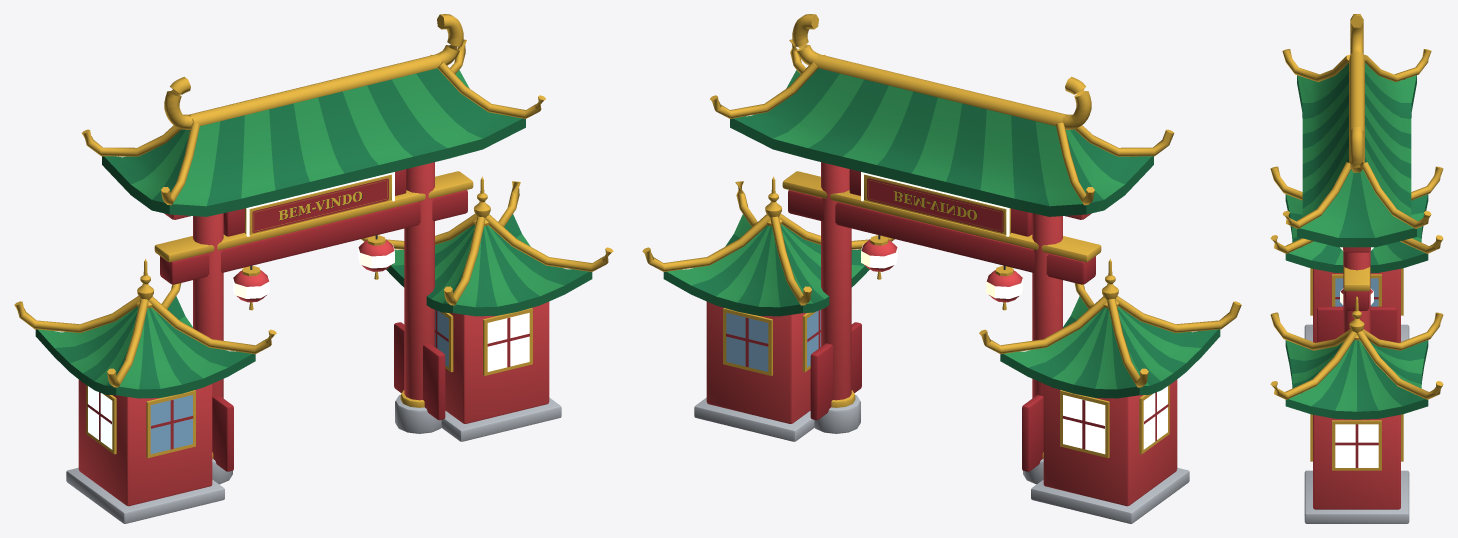
Rendered from portal_decorado.glb.
The picture shows the model from 3 angles, left to right: view 1: azimuth 30°, elevation 25°; view 2: azimuth 150°, elevation 25°; view 3: azimuth 270°, elevation 25°; orthographic projection. The views are drawn at different scales.
Parts seen in each view (by area): view 1: portal_decorado; view 2: portal_decorado; view 3: portal_decorado.
Part boxes in pixels (box(x1,y1,x2,y2)): portal_decorado: box(14, 14, 613, 523); portal_decorado: box(642, 14, 1241, 523); portal_decorado: box(1270, 14, 1443, 523).
Bounding box in the file's own units: 12.89 × 9.84 × 4.31.
Materials: 6 (2 with a texture image).
